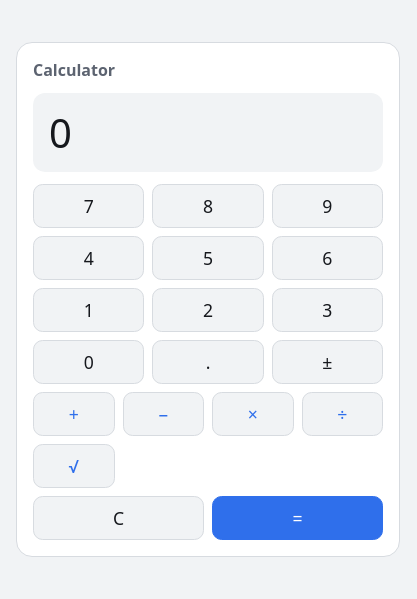
Test: failures › clears the failure once the user types again
Expected: the button named "add" is shown, 33,392 -> 114,436
Click the button "1": (89, 310) 33,288 -> 144,332
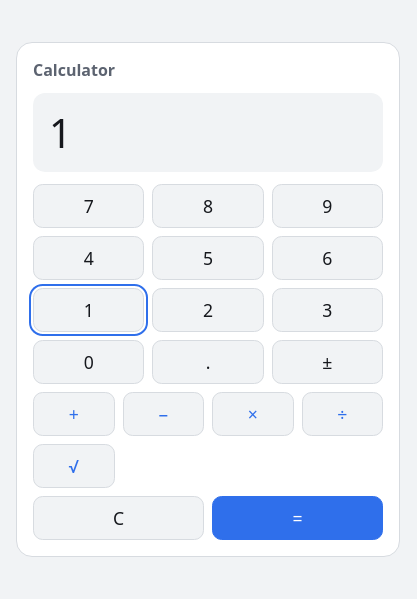
Click the button named "divide": (342, 414) 302,392 -> 383,436
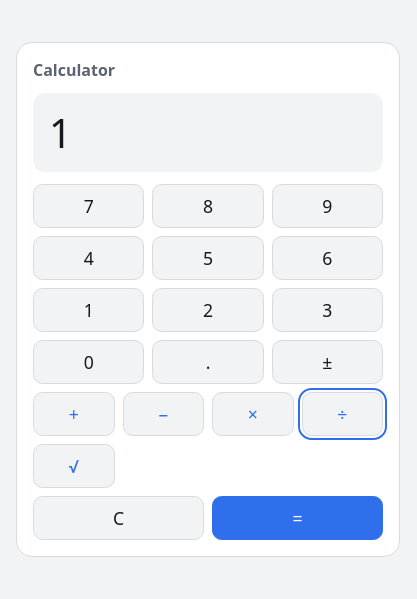
Click the button "0": (89, 362) 33,340 -> 144,384
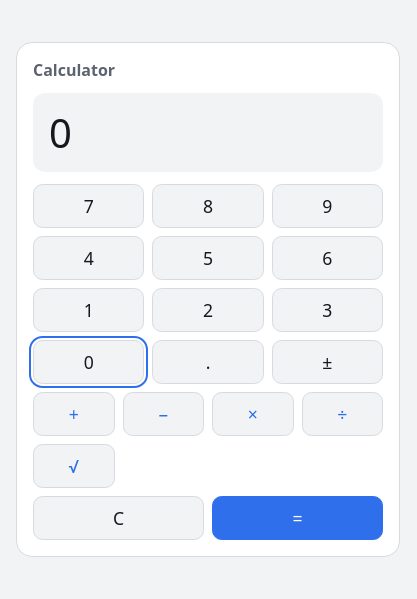
Click the button named "equals": (298, 518) 212,496 -> 383,540
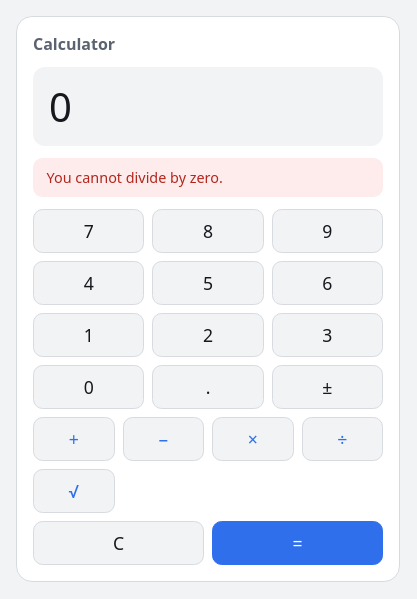
Now the message "You cannot divide by zero." is shown, box 33,158 -> 383,197
Click the button "7": (89, 231) 33,209 -> 144,253
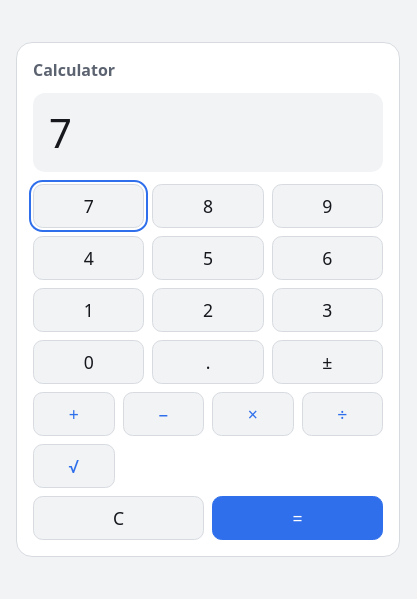
Now the message "You cannot divide by zero." is gone
